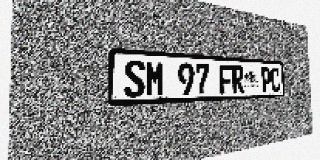7: (194, 63, 210, 95)
9: (178, 62, 195, 96)
C: (270, 67, 281, 92)
F: (219, 65, 232, 94)
M: (145, 61, 165, 97)
P: (261, 67, 271, 92)
R: (232, 65, 244, 94)
S: (124, 60, 145, 98)
